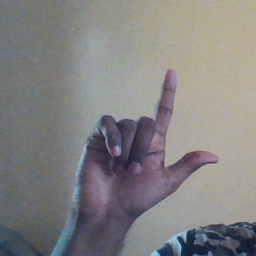L: (65, 65, 220, 221)
